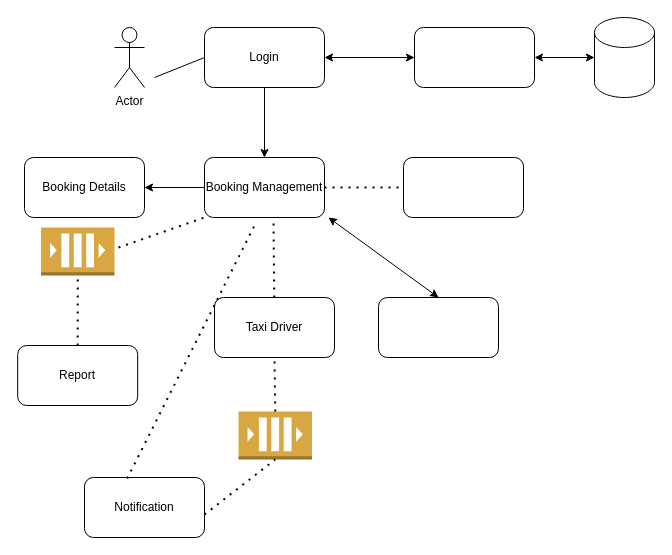
Image size: 672x555. Some labels were removed from this diagram. The centre of each missing label's shape, as x and y in pixels:
"Fare Computation" goes at (463,187).
"Payment" goes at (438,327).
"User Pofile" goes at (474,57).
